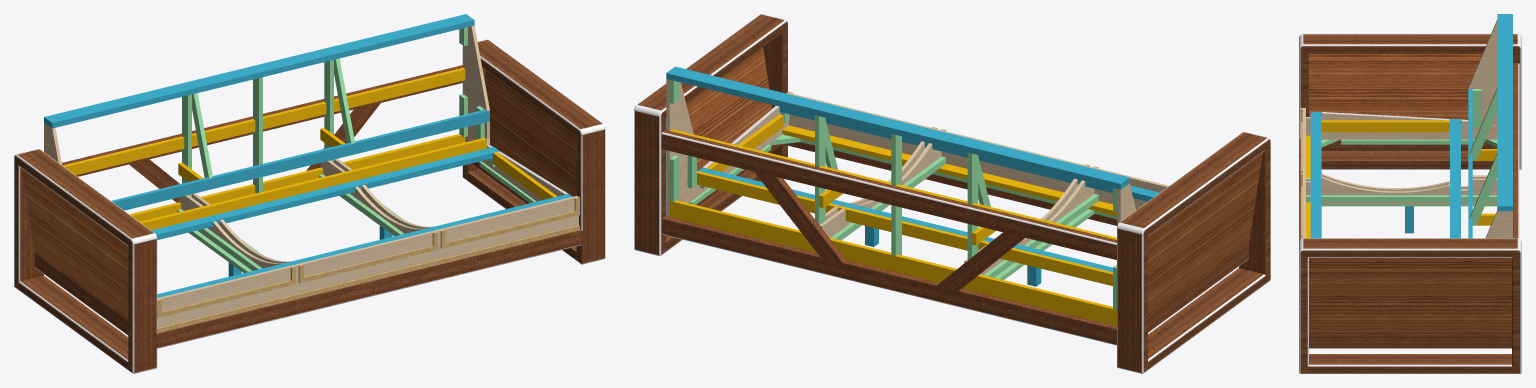
File: IUP325-SOF-mwn2bcd9.glb
3 views of the same model, side by side, from view 1: azimuth 30°, elevation 25°; view 2: azimuth 150°, elevation 25°; view 3: azimuth 270°, elevation 25° (orthographic). The views are drawn at different scales.
Parts seen in each view (by area): view 1: 325SOF - FRONTAL ASIENTO-1, 325SOF-HUACAL LATERAL-2/IUP-325SOF-TABLERO DE COSTADO-1, 325SOF-ARMADOR FRONTAL-1, 325SOF - ARMADOR RESPALDO SUP-1, 325SOF-HUACAL LATERAL-4/IUP-325SOF-TABLERO DE COSTADO-1, 325SOF - ARMADOR RESPALDO-1, 325SOF - SOPORTE RESPALDO-1, 325SOF - ARMADOR ASIENTO FINGER-1, 325SOF-HUACAL LATERAL-2/325SOF-PATA FRONTAL-1, 325SOF - ARMADOR ASIENTO-2, 325SOF-HUACAL LATERAL-2/325SOF-ARMADOR COSTADO SUPERIOR-1, 325SOF-HUACAL LATERAL-4/325SOF-PATA FRONTAL-2 (+29 smaller); view 2: 325SOF-ARMADOR POSTERIOR SUPERIOR-1, 325SOF-ARMADOR POSTERIOR INFERIOR-2, 325SOF-HUACAL LATERAL-2/IUP-325SOF-TABLERO DE COSTADO-1, 325SOF - ARMADOR RESPALDO SUP-1, 325SOF - ARMADOR INF-4, 325SOF - ARMADOR ASIENTO FINGER-1, 325SOF-HUACAL LATERAL-2/325SOF-ARMADOR COSTADO SUPERIOR-1, 325SOF-HUACAL LATERAL-2/325SOF-PATA FRONTAL-2, 325SOF-HUACAL LATERAL-4/325SOF-PATA FRONTAL-1, 325SOF-HUACAL LATERAL-4/IUP-325SOF-TABLERO DE COSTADO-1, 325SOF-HUACAL LATERAL-2/325SOF-ARMADOR COSTADO INFERIOR-1, 325SOF - FRONTAL ASIENTO-1 (+25 smaller); view 3: 325SOF-HUACAL LATERAL-4/IUP-325SOF-TABLERO DE COSTADO-1, 325SOF-HUACAL LATERAL-2/IUP-325SOF-TABLERO DE COSTADO-1, 325SOF-HUACAL LATERAL-4/325SOF-ARMADOR COSTADO SUPERIOR-1, 325SOF-HUACAL LATERAL-4/325SOF-ARMADOR COSTADO INFERIOR-1, 325SOF-HUACAL LATERAL-2/325SOF-ARMADOR COSTADO SUPERIOR-1, 325SOF - ARMADOR RESPALDO SUP-1, 325SOF-HUACAL LATERAL-4/325SOF-ARMADOR COSTADO CENTRAL-1, 325SOF-HUACAL LATERAL-2/325SOF-ARMADOR COSTADO INFERIOR-1, 325SOF - LATERAL INF-3, 19-325SOF - CENTRAL ASIENTO-4, 325SOF - ARMADOR ASIENTO LAT-1, 325SOF - ARMADOR ASIENTO-1 (+23 smaller).
Part boxes in pixels (x1,y1,x2,y2): 325SOF - FRONTAL ASIENTO-1: (157,196,578,327); 325SOF-HUACAL LATERAL-2/IUP-325SOF-TABLERO DE COSTADO-1: (21,168,128,320); 325SOF-ARMADOR FRONTAL-1: (157,230,581,348); 325SOF - ARMADOR RESPALDO SUP-1: (44,14,474,128); 325SOF-HUACAL LATERAL-4/IUP-325SOF-TABLERO DE COSTADO-1: (484,70,576,196); 325SOF - ARMADOR RESPALDO-1: (111,109,489,210); 325SOF - SOPORTE RESPALDO-1: (62,68,465,174); 325SOF - ARMADOR ASIENTO FINGER-1: (140,137,486,230); 325SOF-HUACAL LATERAL-2/325SOF-PATA FRONTAL-1: (127,235,157,373); 325SOF - ARMADOR ASIENTO-2: (151,147,499,239); 325SOF-HUACAL LATERAL-2/325SOF-ARMADOR COSTADO SUPERIOR-1: (14,149,156,245); 325SOF-HUACAL LATERAL-4/325SOF-PATA FRONTAL-2: (576,126,605,264); 325SOF-ARMADOR POSTERIOR SUPERIOR-1: (661,130,1116,259); 325SOF-ARMADOR POSTERIOR INFERIOR-2: (661,216,1116,345); 325SOF-HUACAL LATERAL-2/IUP-325SOF-TABLERO DE COSTADO-1: (1148,152,1262,317); 325SOF - ARMADOR RESPALDO SUP-1: (666,66,1129,189); 325SOF - ARMADOR INF-4: (669,200,1116,321); 325SOF - ARMADOR ASIENTO FINGER-1: (697,171,1112,285); 325SOF-HUACAL LATERAL-2/325SOF-ARMADOR COSTADO SUPERIOR-1: (1117,131,1269,235); 325SOF-HUACAL LATERAL-2/325SOF-PATA FRONTAL-2: (1117,225,1148,373); 325SOF-HUACAL LATERAL-4/325SOF-PATA FRONTAL-1: (634,107,665,256); 325SOF-HUACAL LATERAL-4/IUP-325SOF-TABLERO DE COSTADO-1: (686,47,771,170); 325SOF-HUACAL LATERAL-2/325SOF-ARMADOR COSTADO INFERIOR-1: (1148,268,1265,369); 325SOF - FRONTAL ASIENTO-1: (786,92,1169,209); 325SOF-HUACAL LATERAL-4/IUP-325SOF-TABLERO DE COSTADO-1: (1309,258,1511,334); 325SOF-HUACAL LATERAL-2/IUP-325SOF-TABLERO DE COSTADO-1: (1309,53,1482,123); 325SOF-HUACAL LATERAL-4/325SOF-ARMADOR COSTADO SUPERIOR-1: (1300,238,1520,257); 325SOF-HUACAL LATERAL-4/325SOF-ARMADOR COSTADO INFERIOR-1: (1309,354,1511,373); 325SOF-HUACAL LATERAL-2/325SOF-ARMADOR COSTADO SUPERIOR-1: (1300,34,1520,53); 325SOF - ARMADOR RESPALDO SUP-1: (1497,14,1512,211); 325SOF-HUACAL LATERAL-4/325SOF-ARMADOR COSTADO CENTRAL-1: (1309,335,1511,348); 325SOF-HUACAL LATERAL-2/325SOF-ARMADOR COSTADO INFERIOR-1: (1321,151,1493,169); 325SOF - LATERAL INF-3: (1306,112,1497,139); 19-325SOF - CENTRAL ASIENTO-4: (1306,176,1497,204); 325SOF - ARMADOR ASIENTO LAT-1: (1321,120,1449,132); 325SOF - ARMADOR ASIENTO-1: (1310,112,1321,238).
Bounding box in the file's own units: 2.29 × 0.775 × 1.
11 materials, 4 textured.
